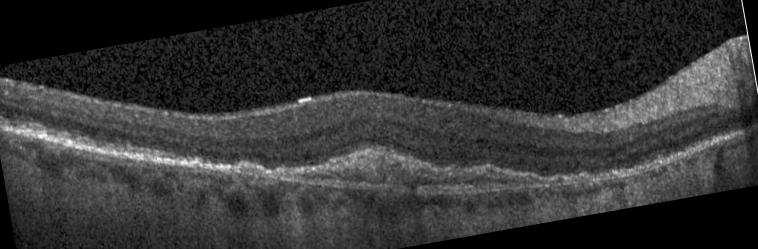subretinal_hyperreflective_material: (239, 144, 593, 194)
